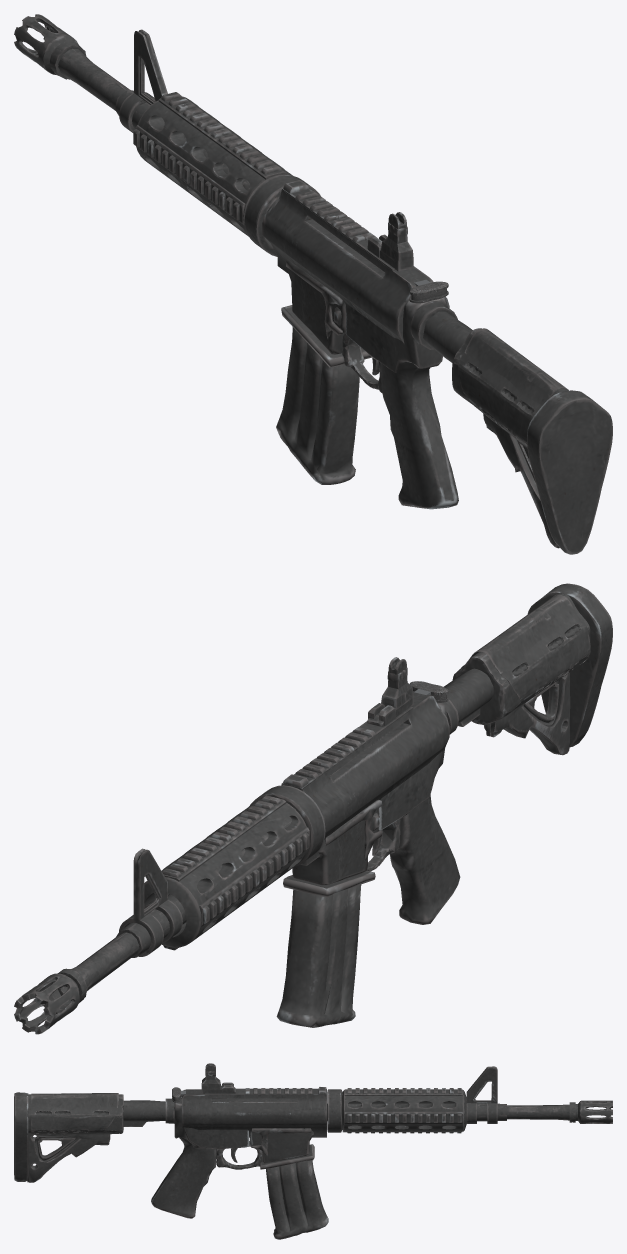
Rendered from rifle.glb.
3 views of the same model, one above another, from view 1: azimuth 30°, elevation 25°; view 2: azimuth 150°, elevation 25°; view 3: azimuth 270°, elevation 25° (orthographic). The views are drawn at different scales.
Parts seen in each view (by area): view 1: Küp.019_low, Küp.016_low, Küp.015; view 2: Küp.019_low, Küp.016_low; view 3: Küp.019_low, Küp.016_low.
Part boxes in pixels (<box>): Küp.019_low: <box>14,14,612,554</box>; Küp.016_low: <box>276,327,359,484</box>; Küp.015: <box>409,279,448,303</box>; Küp.019_low: <box>14,583,612,1034</box>; Küp.016_low: <box>276,884,361,1027</box>; Küp.019_low: <box>14,1063,612,1218</box>; Küp.016_low: <box>266,1160,328,1239</box>.
Bounding box in the file's own units: 0.1585 × 0.633 × 2.
Materials: 1 (1 with a texture image).
